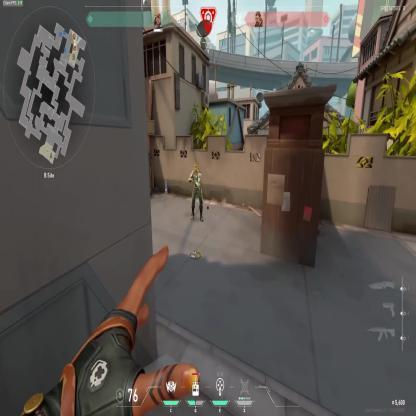enemy: (188, 164, 204, 223)
enemy_head: (194, 164, 197, 172)
